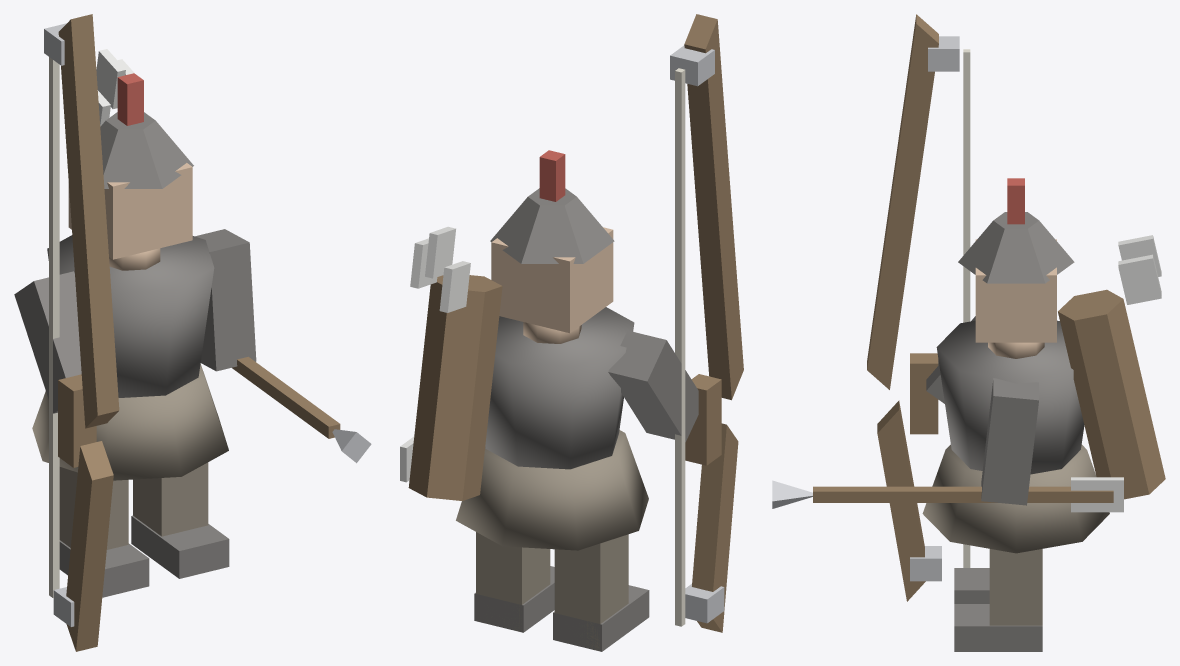
The model's file is troop-great-bow.glb.
3 renders of one model, left to right at view 1: azimuth 30°, elevation 25°; view 2: azimuth 150°, elevation 25°; view 3: azimuth 270°, elevation 25°, orthographic. The views are drawn at different scales.
Visible parts, largest first — view 1: bow_limb_u, body, skirt, bow_limb_d, head, arm_r, bow_string, helmet, arm_l, leg_r, foot_r, leg_l (+9 smaller); view 2: quiver, body, skirt, bow_limb_u, head, arm_l, helmet, leg_l, bow_string, bow_limb_d, leg_r, foot_l (+6 smaller); view 3: quiver, body, bow_limb_u, skirt, arm_r, helmet, head, arrow, bow_limb_d, leg_r, foot_r, bow_string (+8 smaller).
Part boxes in pixels (box(x1,y1,x2,y2)): bow_limb_u: box(58, 14, 119, 428); body: box(47, 235, 214, 397); skirt: box(32, 364, 228, 480); bow_limb_d: box(66, 441, 113, 651); head: box(68, 163, 192, 259); arm_r: box(195, 229, 256, 371); bow_string: box(49, 57, 59, 597); helmet: box(100, 112, 193, 188); arm_l: box(14, 271, 81, 413); leg_r: box(133, 462, 208, 536); foot_r: box(131, 515, 229, 578); leg_l: box(59, 467, 128, 549); quiver: box(408, 226, 502, 500); body: box(485, 307, 634, 469); skirt: box(456, 430, 648, 550); bow_limb_u: box(684, 14, 743, 400); head: box(491, 227, 613, 333); arm_l: box(608, 330, 698, 442); helmet: box(490, 188, 614, 263); leg_l: box(554, 534, 628, 650); bow_string: box(675, 68, 685, 626); bow_limb_d: box(692, 423, 738, 632); leg_r: box(476, 532, 550, 631); foot_l: box(553, 585, 649, 651); quiver: box(1058, 235, 1165, 499); body: box(936, 320, 1084, 474); bow_limb_u: box(867, 14, 938, 389); skirt: box(922, 444, 1109, 553); arm_r: box(981, 378, 1038, 505); helmet: box(958, 212, 1074, 283); head: box(975, 239, 1056, 342); arrow: box(813, 486, 1113, 502); bow_limb_d: box(877, 400, 925, 601); leg_r: box(989, 549, 1042, 625); foot_r: box(954, 604, 1042, 651); bow_string: box(963, 49, 970, 567).
Size of the model in its own units: 0.1355 by 0.3609 by 0.2225.
